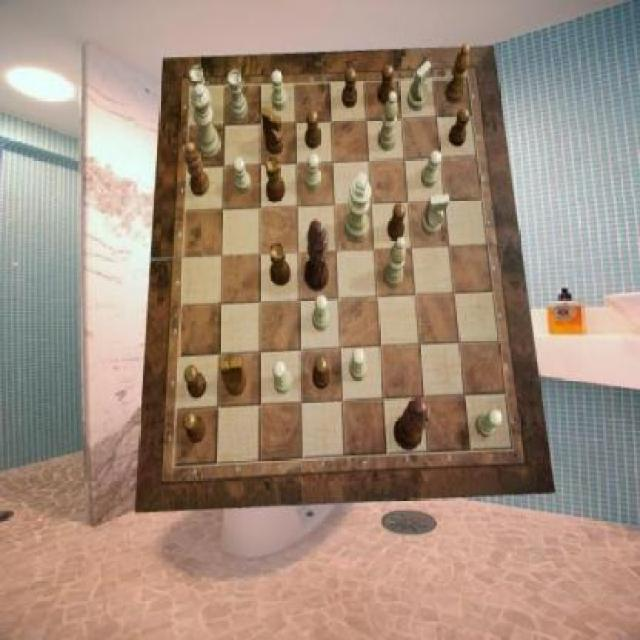bishop: (446, 44, 471, 104), (186, 142, 211, 196)
black-bishop: (305, 220, 329, 292)
black-king: (220, 357, 248, 395), (262, 109, 284, 157)
black-knight: (449, 108, 472, 146), (182, 412, 206, 445), (185, 364, 207, 398), (377, 64, 394, 104), (388, 203, 405, 241), (341, 68, 357, 108), (304, 111, 320, 149), (314, 357, 331, 391)
black-pawn: (394, 395, 431, 450)
black-queen: (269, 242, 292, 286), (266, 156, 286, 202)
black-rook: (378, 91, 398, 151), (383, 237, 406, 289)
white-bishop: (345, 172, 372, 243)
white-king: (408, 60, 432, 111), (422, 194, 451, 236)
white-knight: (422, 151, 442, 188), (232, 158, 252, 194), (270, 71, 288, 111), (476, 411, 502, 438), (304, 152, 322, 190), (274, 362, 294, 396), (312, 294, 330, 331), (349, 348, 367, 382)
white-pawn: (191, 85, 221, 159)
white-queen: (190, 64, 214, 116), (228, 69, 248, 120)
